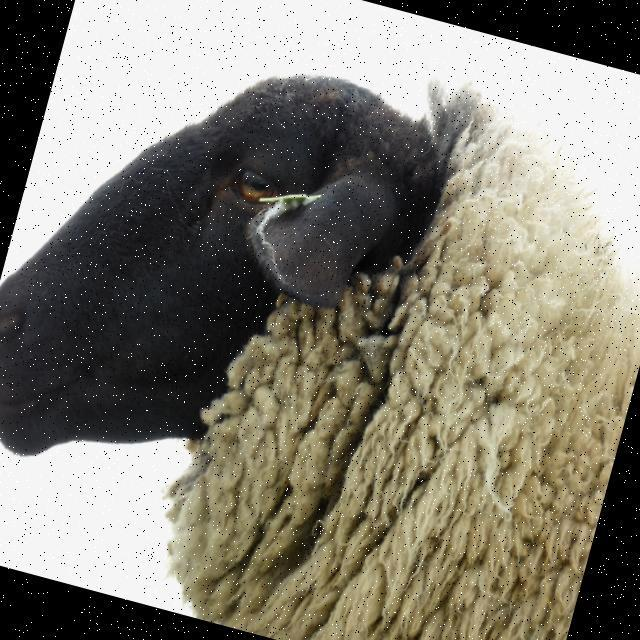sheep: (0, 76, 640, 640)
